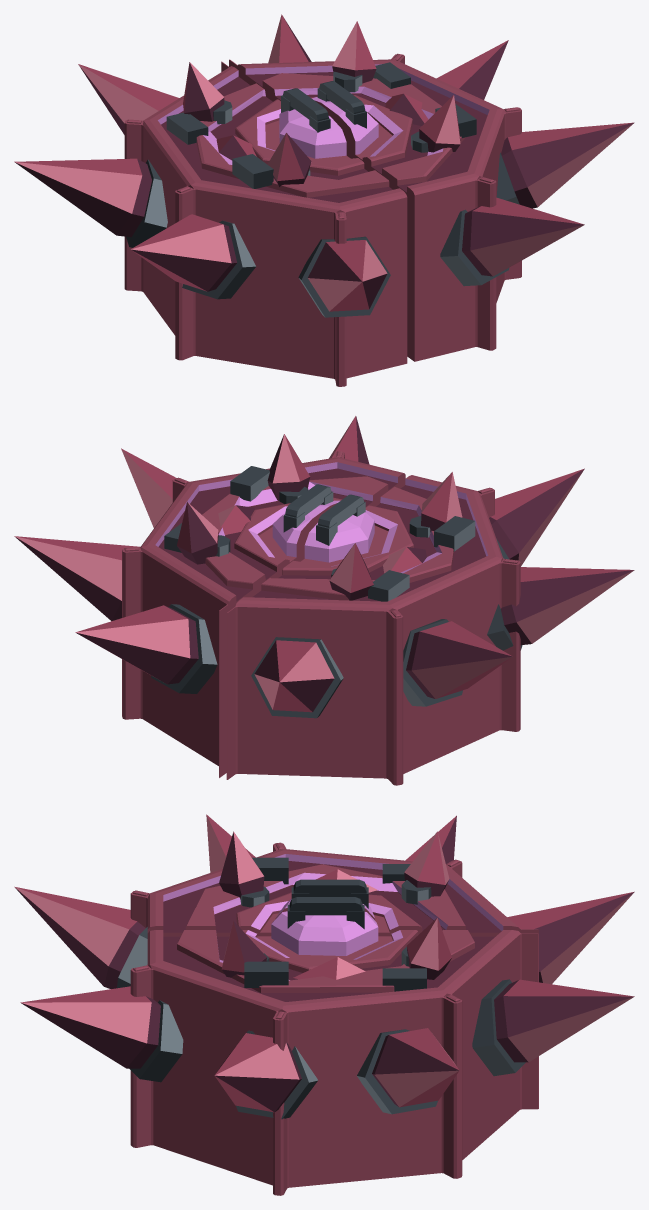
File: reidite_spike_door.fbx
The picture shows the model from 3 angles, top to bottom: view 1: azimuth 30°, elevation 25°; view 2: azimuth 150°, elevation 25°; view 3: azimuth 270°, elevation 25°; orthographic projection. The views are drawn at different scales.
Parts seen in each view (by area): view 1: reidite_spike_door_panel_left, reidite_spike_door_panel_right; view 2: reidite_spike_door_panel_left, reidite_spike_door_panel_right; view 3: reidite_spike_door_panel_right, reidite_spike_door_panel_left.
Boxes of the visible parts, x1,y1,x2,y2 form: reidite_spike_door_panel_left: [14, 61, 407, 386]; reidite_spike_door_panel_right: [229, 14, 634, 361]; reidite_spike_door_panel_left: [226, 468, 634, 785]; reidite_spike_door_panel_right: [14, 416, 405, 777]; reidite_spike_door_panel_right: [20, 897, 634, 1195]; reidite_spike_door_panel_left: [14, 814, 634, 988].
Size of the model in its own units: 6.26 by 2.6 by 6.29.
1 material, 1 textured.
